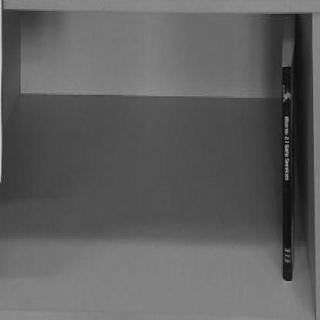book-spine: (282, 66, 292, 280)
